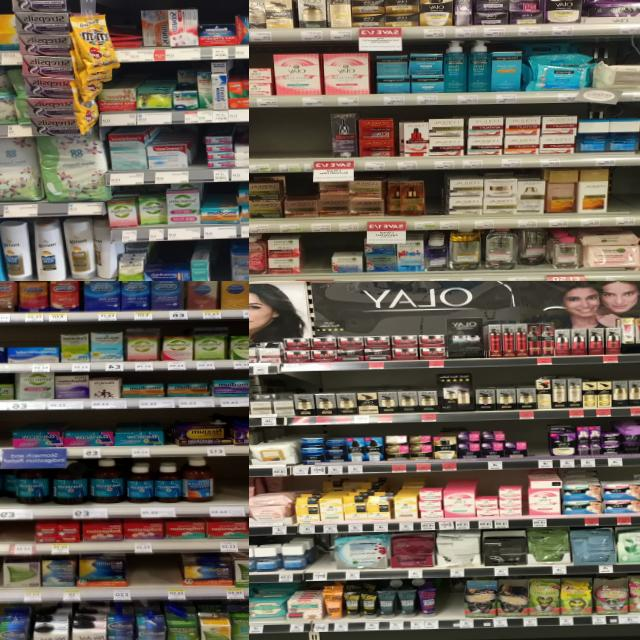100% O.O.S: (132, 554, 178, 600), (215, 458, 249, 516), (0, 520, 34, 554)
100- O.O.S: (302, 110, 331, 172), (609, 167, 640, 225), (274, 108, 302, 172), (298, 235, 331, 281), (249, 111, 272, 172), (424, 172, 442, 230), (310, 535, 328, 580), (528, 426, 546, 468), (211, 242, 229, 281), (195, 125, 206, 182)
